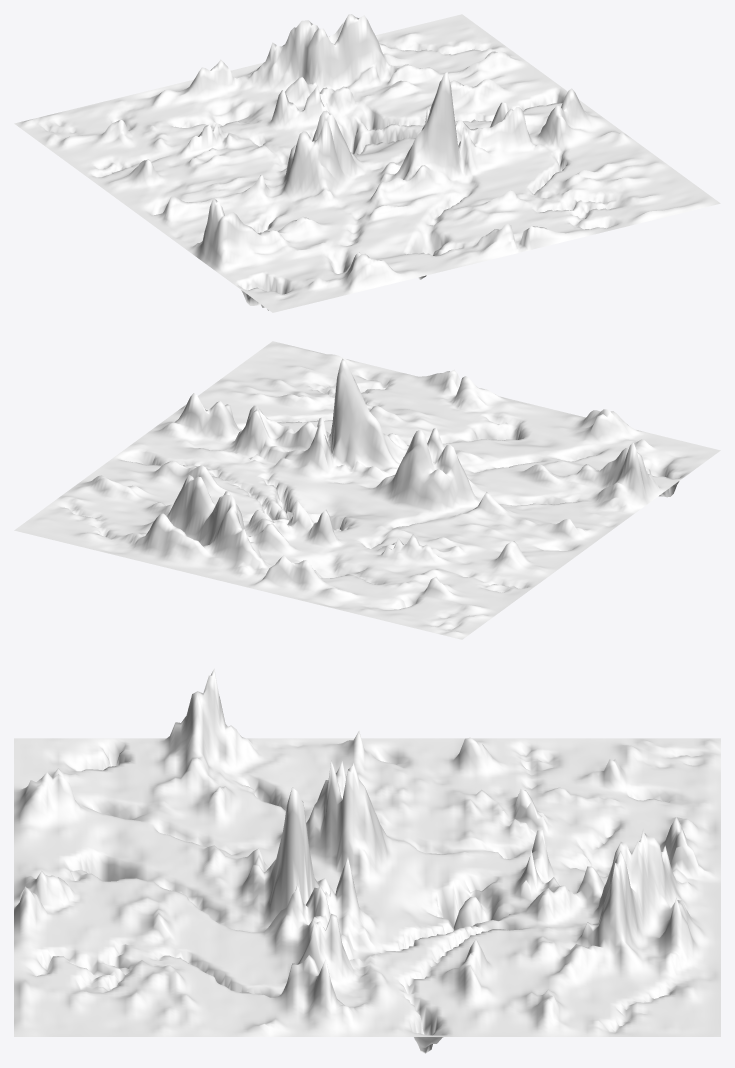
File: Landscape.obj
3 views of the same model, one above another, from view 1: azimuth 30°, elevation 25°; view 2: azimuth 150°, elevation 25°; view 3: azimuth 270°, elevation 25° (orthographic). The views are drawn at different scales.
Parts seen in each view (by area): view 1: Landscape.003; view 2: Landscape.003; view 3: Landscape.003.
Boxes of the visible parts, <box> form: Landscape.003: <box>14,14,720,312</box>; Landscape.003: <box>14,341,720,639</box>; Landscape.003: <box>14,668,720,1053</box>.
Bounding box in the file's own units: 2 × 0.6301 × 2.
Materials: 1 (1 with a texture image).
